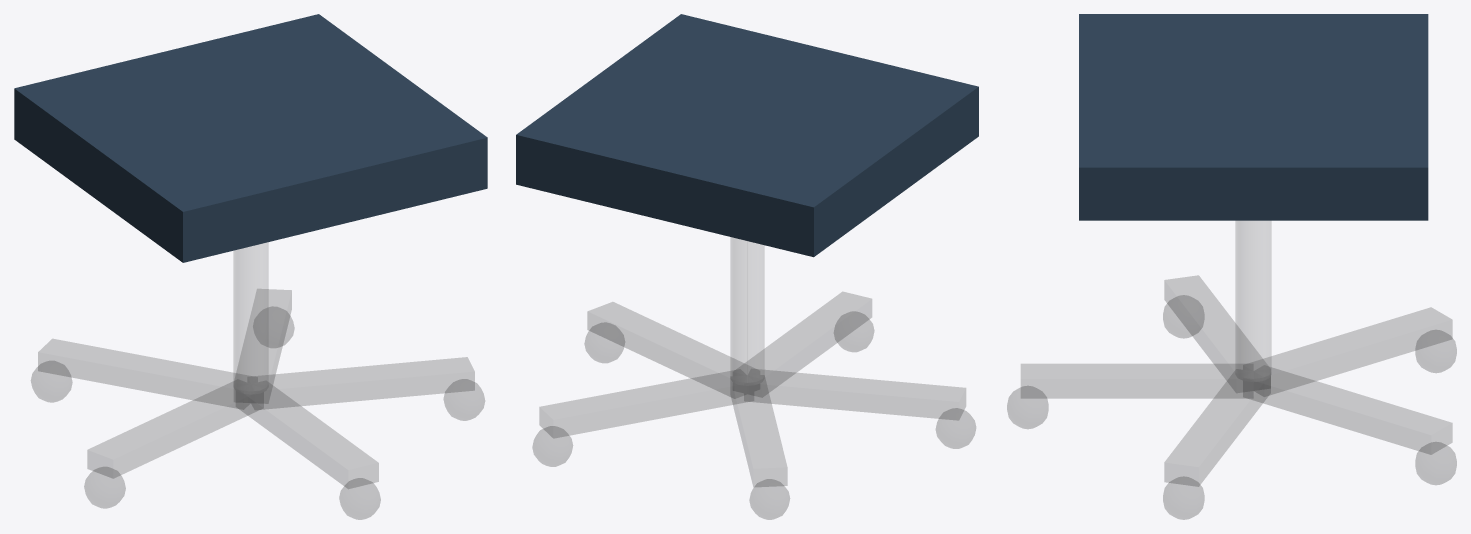
The model's file is swivelchair-ghost.glb.
3 renders of one model, left to right at view 1: azimuth 30°, elevation 25°; view 2: azimuth 150°, elevation 25°; view 3: azimuth 270°, elevation 25°, orthographic. The views are drawn at different scales.
Size of the model in its own units: 0.6497 by 0.51 by 0.6179.
